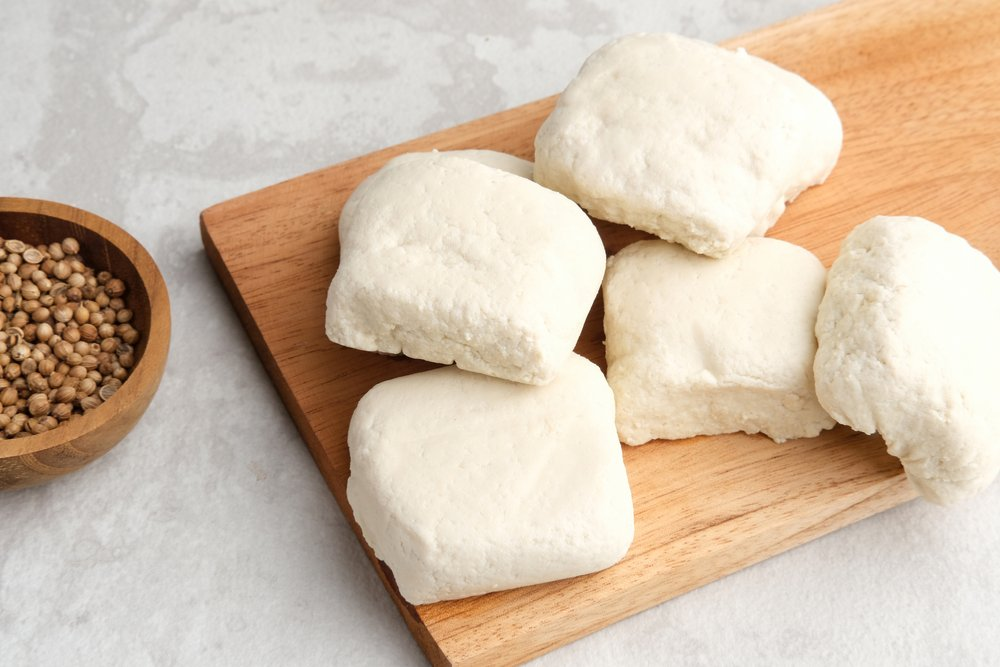Tahu: (282, 339, 619, 638), (788, 218, 988, 546), (651, 214, 862, 415), (590, 42, 838, 196), (304, 187, 559, 326)
